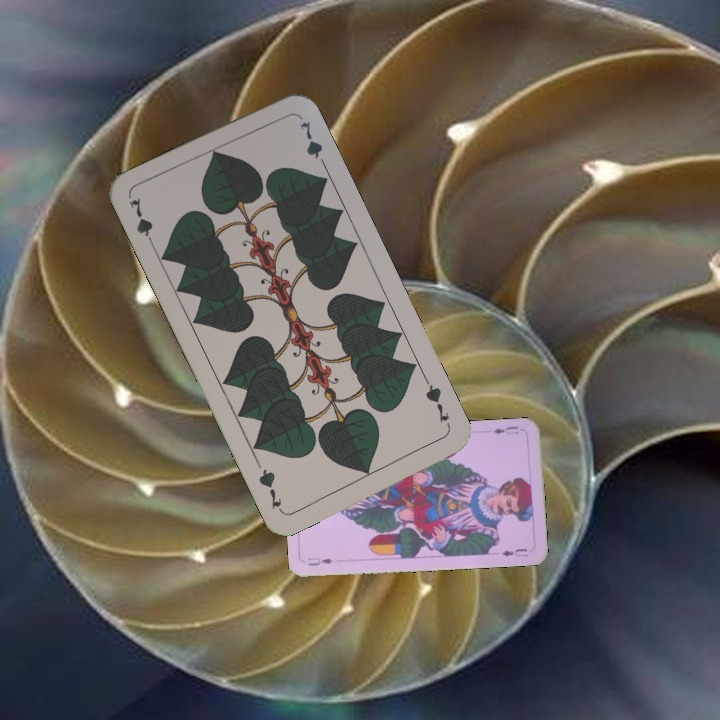EU: (489, 422, 521, 437), (304, 553, 336, 568)
G7: (125, 193, 158, 251), (421, 375, 452, 426)
